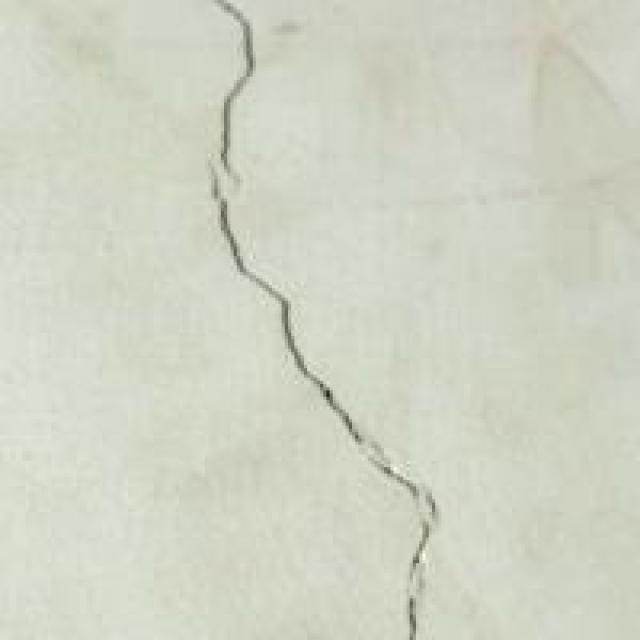crack: (192, 0, 454, 637)
